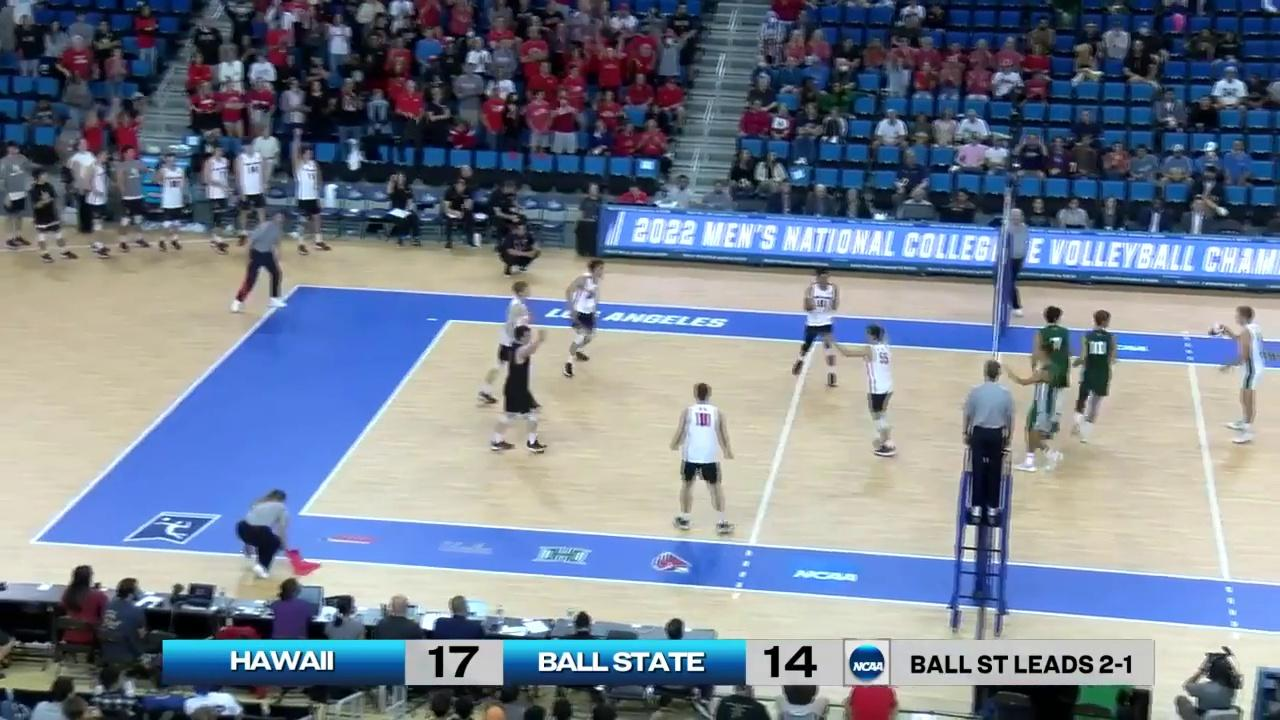player: (671, 384, 732, 533), (481, 283, 539, 407), (493, 325, 548, 453), (1017, 342, 1063, 474), (788, 268, 839, 386), (1221, 306, 1264, 445), (1072, 310, 1116, 445), (857, 322, 898, 456), (1032, 306, 1068, 441), (563, 259, 603, 375)
refree: (960, 363, 1016, 520), (236, 488, 305, 578), (233, 208, 291, 310), (1004, 209, 1029, 315)
